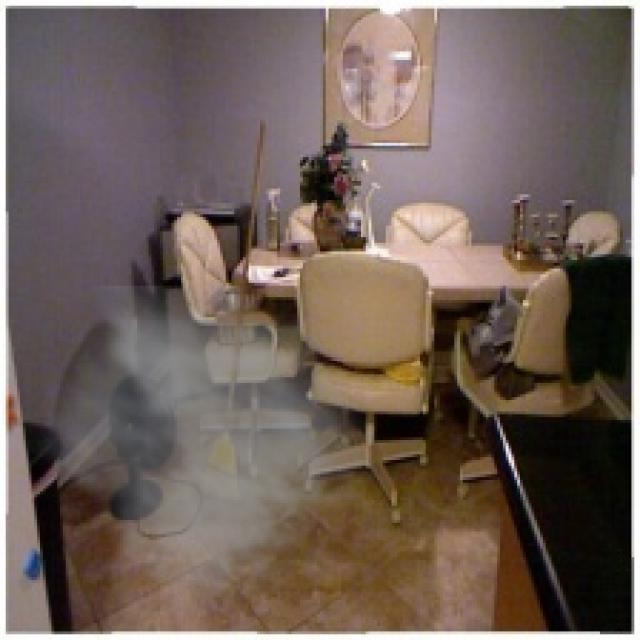Smoke: (23, 286, 383, 634)
